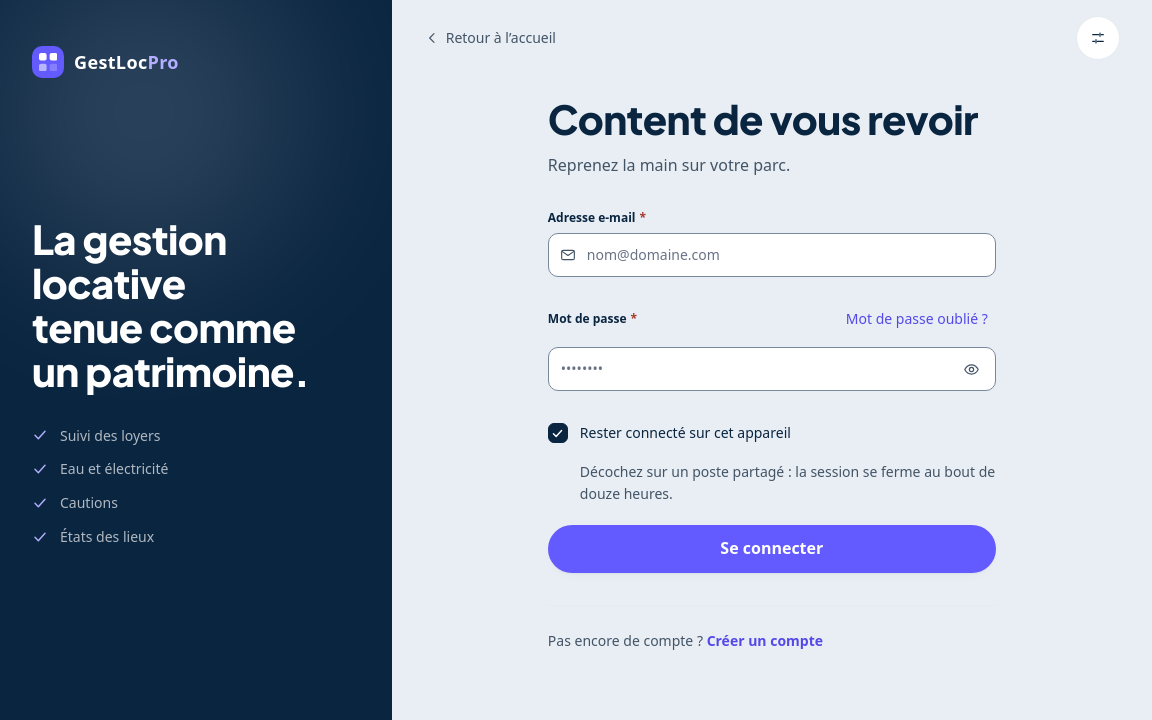
it: l’adresse retenue et le rôle du compte › ne dépose pas le propriétaire sur l’espace du locataire
Type "sarah@example.com" into the field labelled "Adresse e-mail*".
click(772, 255); type("sarah@example.com")  # box [548, 233, 996, 277]
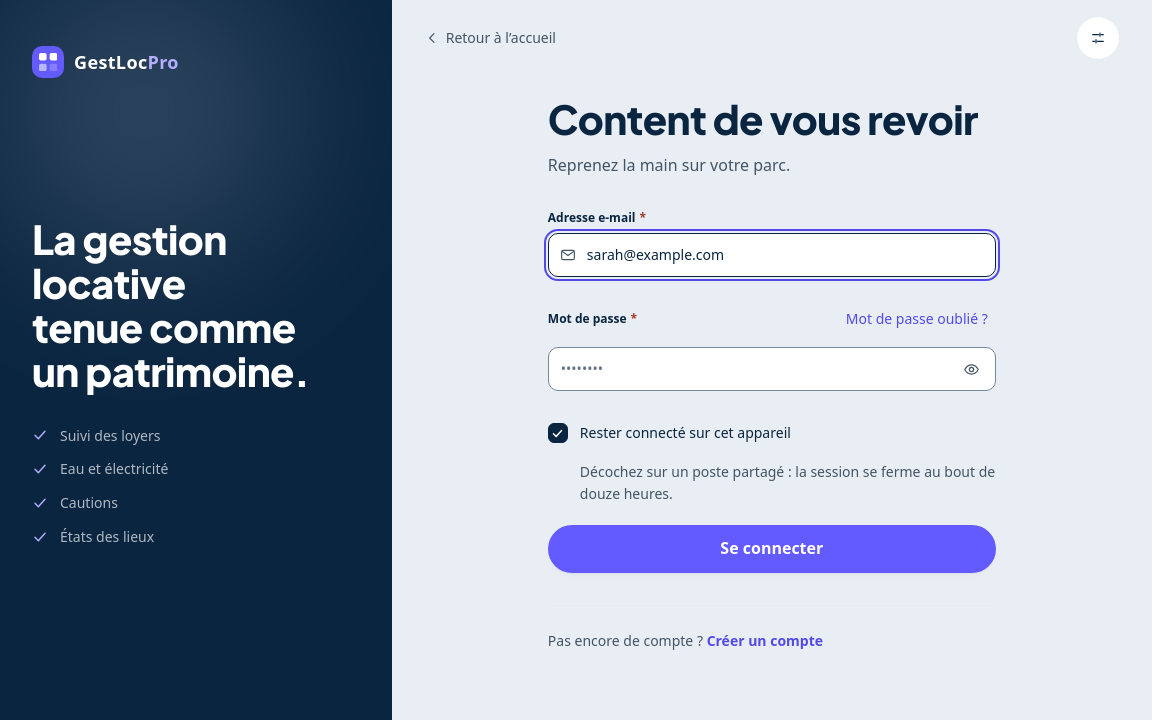
Type "un-mot-de-passe-assez-long" into the password field labelled "Mot de passe*".
click(772, 369); type("un-mot-de-passe-assez-long")  # box [548, 347, 996, 391]
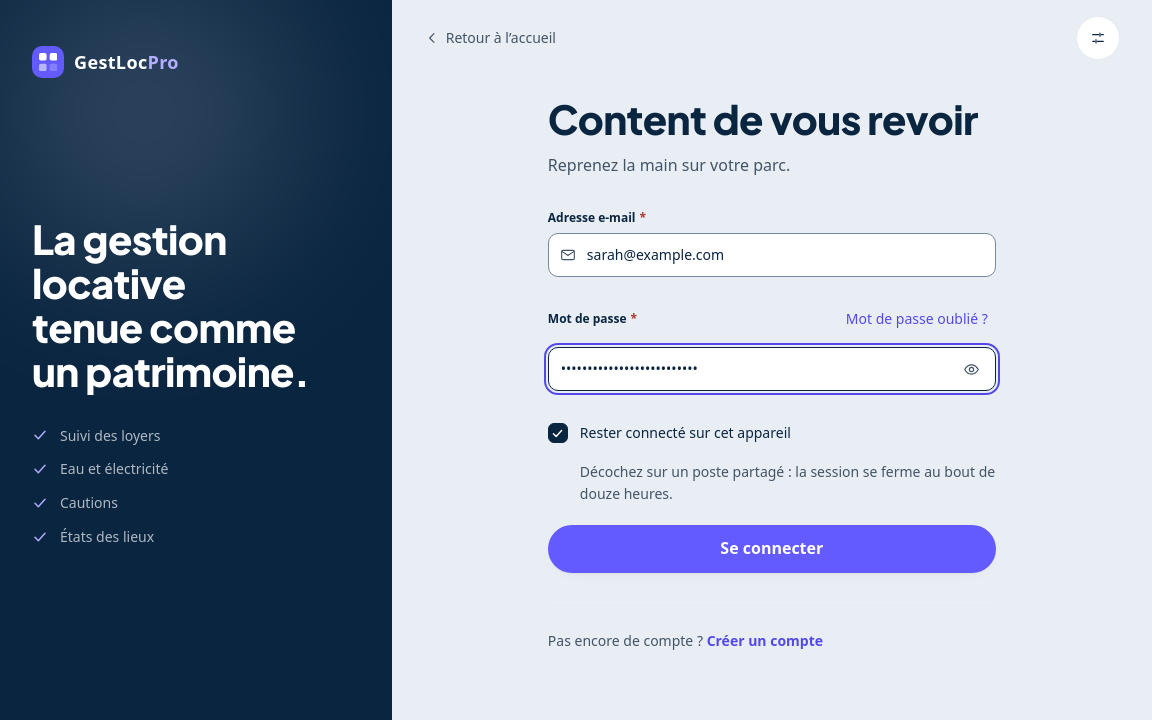
Click the button "Se connecter".
click(772, 548)  # box [548, 524, 996, 572]
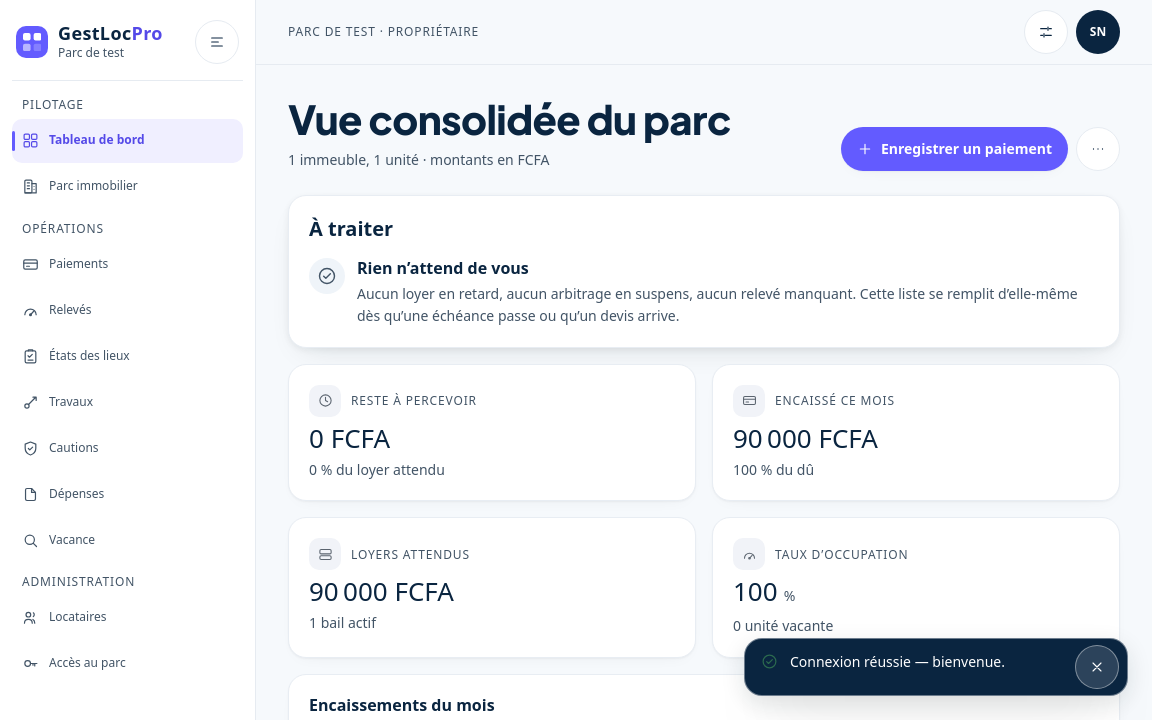
Expected: the heading "Vue consolidée du parc" does not show "introuvable", [288, 93, 731, 144]
Result: the heading "Vue consolidée du parc" is shown at [288, 93, 731, 144]
